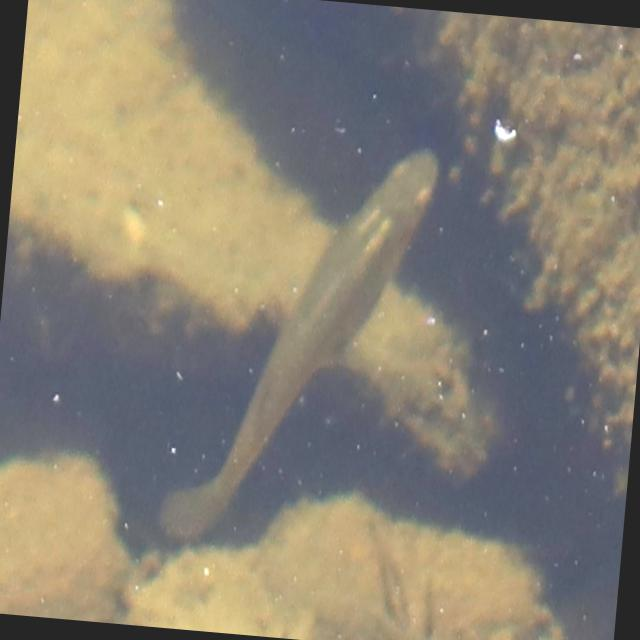Sivrisinek Baligi: (146, 124, 438, 567)
